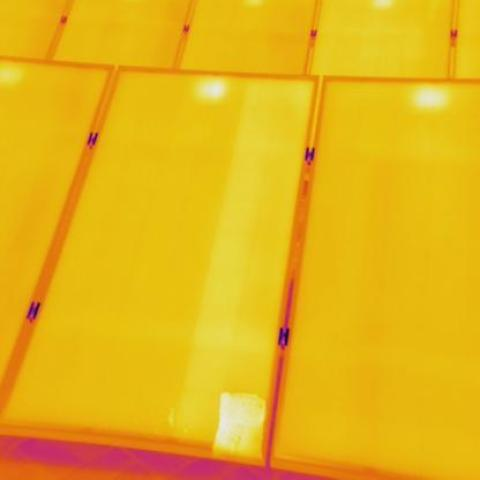fault: (215, 392, 263, 456), (409, 87, 445, 105), (197, 77, 228, 96)
